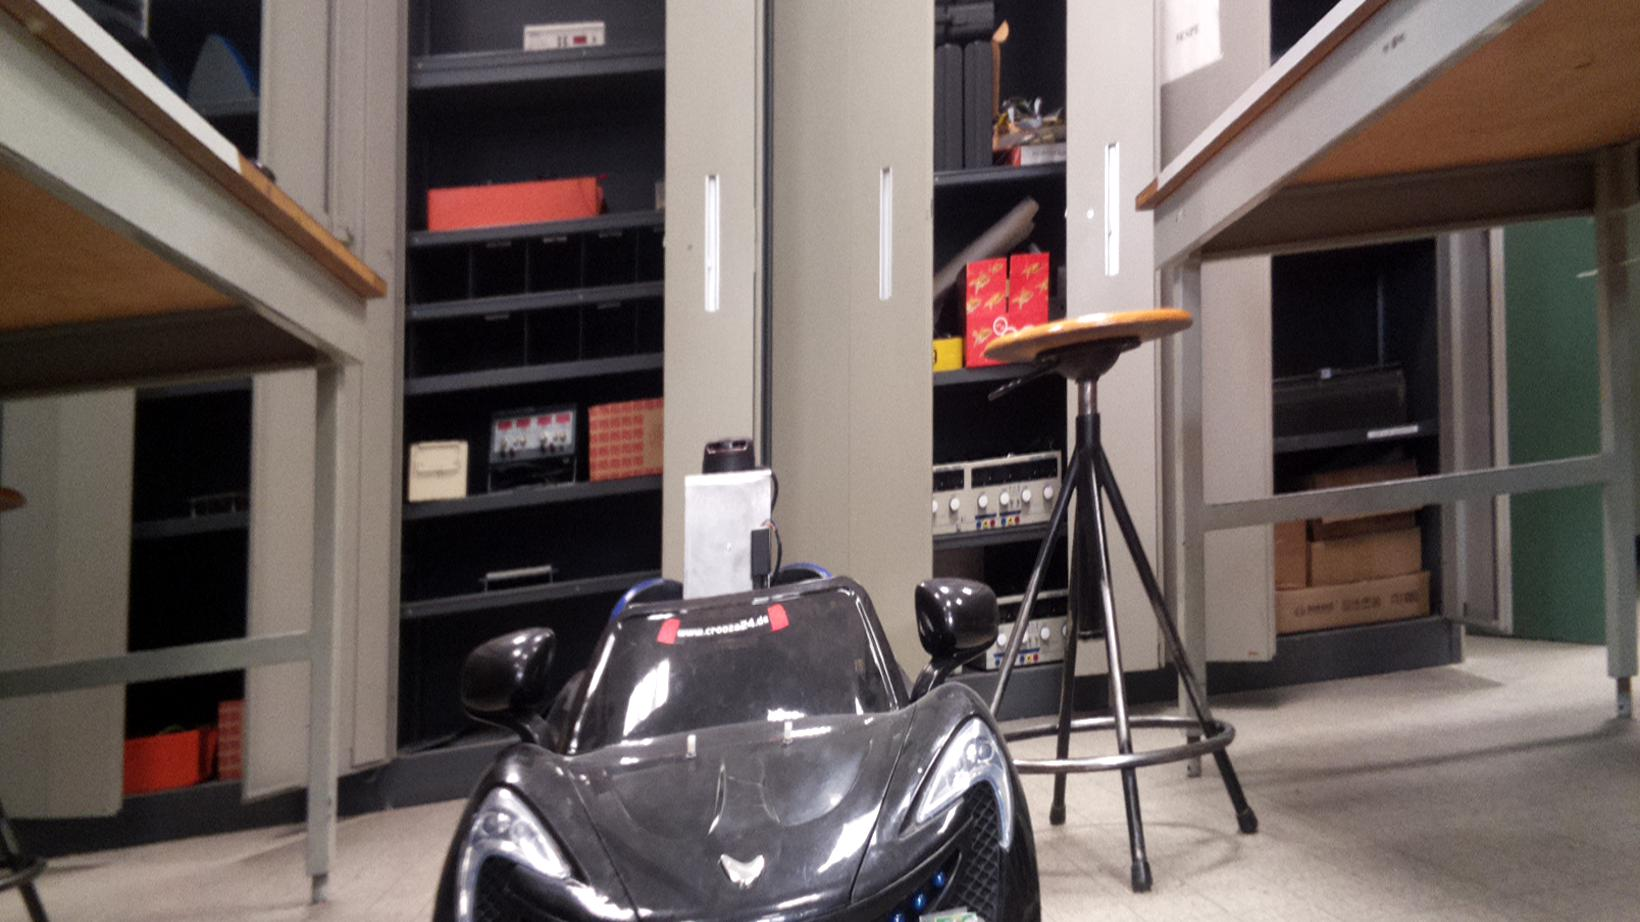big: (434, 439, 1050, 922)
